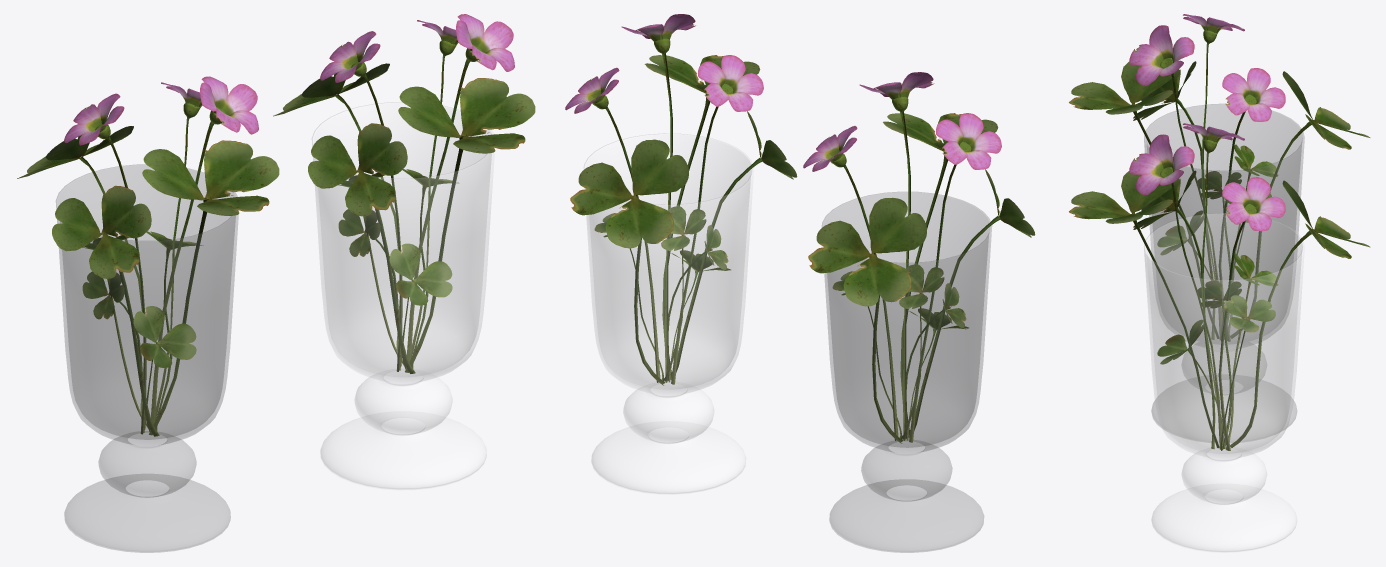
Rendered from vase.glb.
The picture shows the model from 3 angles, left to right: view 1: azimuth 30°, elevation 25°; view 2: azimuth 150°, elevation 25°; view 3: azimuth 270°, elevation 25°; orthographic projection. The views are drawn at different scales.
Visible parts, largest first — view 1: GlassAlpha, GlassTransmission, Flowers2, Flowers1; view 2: GlassAlpha, GlassTransmission, Flowers2, Flowers1; view 3: GlassTransmission, GlassAlpha, Flowers2, Flowers1.
Boxes of the visible parts, x1=… form: GlassAlpha: x1=56, y1=164, x2=238, y2=552; GlassTransmission: x1=312, y1=102, x2=494, y2=490; Flowers2: x1=273, y1=14, x2=535, y2=373; Flowers1: x1=17, y1=76, x2=279, y2=436; GlassAlpha: x1=822, y1=192, x2=991, y2=552; GlassTransmission: x1=584, y1=133, x2=753, y2=494; Flowers2: x1=565, y1=14, x2=797, y2=385; Flowers1: x1=803, y1=72, x2=1035, y2=443; GlassTransmission: x1=1144, y1=213, x2=1304, y2=552; GlassAlpha: x1=1144, y1=104, x2=1304, y2=442; Flowers2: x1=1069, y1=123, x2=1370, y2=450; Flowers1: x1=1069, y1=14, x2=1370, y2=341.
Size of the model in its own units: 0.2173 by 0.2032 by 0.1425.
Materials: 3 (1 with a texture image).
